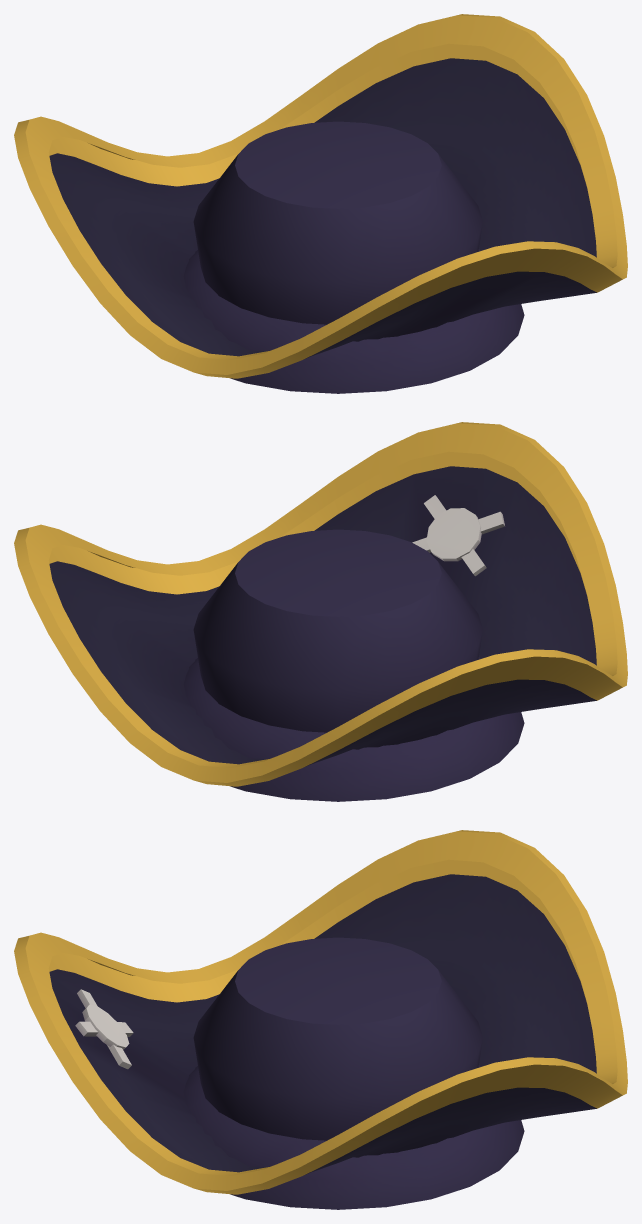
File: hat_pirate.glb
The picture shows the model from 3 angles, top to bottom: view 1: azimuth 30°, elevation 25°; view 2: azimuth 150°, elevation 25°; view 3: azimuth 270°, elevation 25°; orthographic projection.
Visible parts, largest first — view 1: hat; view 2: hat; view 3: hat.
Boxes of the visible parts, x1=… form: hat: x1=14, y1=14, x2=627, y2=393; hat: x1=14, y1=422, x2=627, y2=801; hat: x1=14, y1=830, x2=627, y2=1209.
Size of the model in its own units: 0.6013 by 0.1952 by 0.5936.
